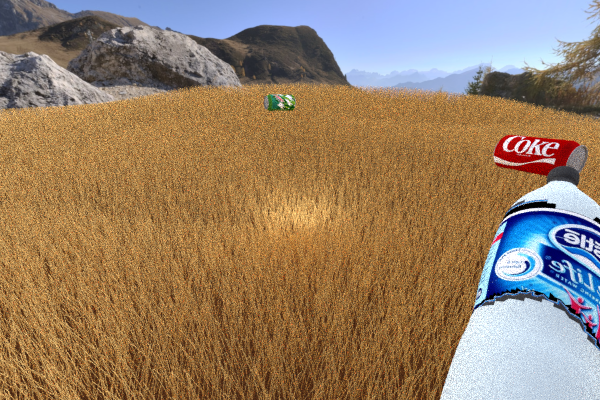Plastic Bottle: (436, 165, 600, 400), (493, 134, 588, 178), (263, 94, 295, 111)
